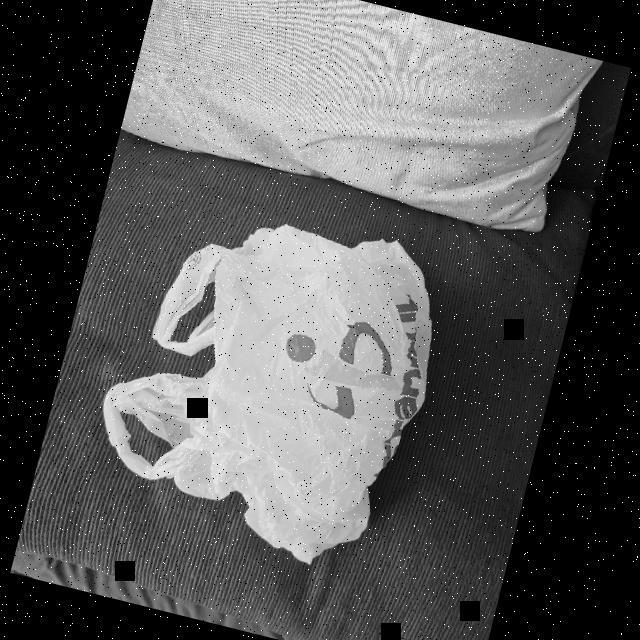plastic_bag: (78, 182, 460, 580)
